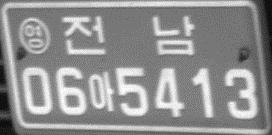0: (20, 66, 52, 116)
1: (188, 66, 222, 119)
3: (224, 68, 259, 120)
4: (153, 68, 185, 118)
5: (115, 67, 149, 117)
6: (55, 66, 86, 116)
아: (87, 71, 115, 113)
영: (17, 15, 52, 55)
전남_D: (60, 15, 197, 57)
